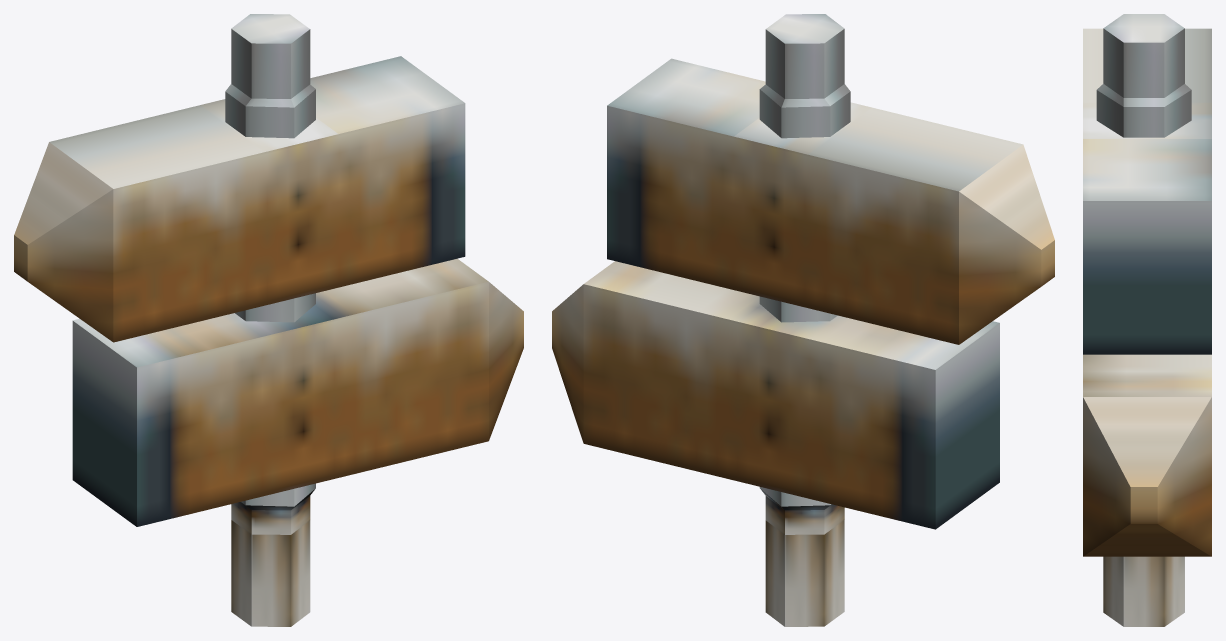
File: Poly_Direction_Board_04_Snow.obj
The picture shows the model from 3 angles, left to right: view 1: azimuth 30°, elevation 25°; view 2: azimuth 150°, elevation 25°; view 3: azimuth 270°, elevation 25°; orthographic projection.
Visible parts, largest first — view 1: Cylinder.003_Cylinder.007, Cylinder.002_Cylinder.006, Cylinder; view 2: Cylinder.003_Cylinder.007, Cylinder.002_Cylinder.006, Cylinder; view 3: Cylinder.003_Cylinder.007, Cylinder.002_Cylinder.006, Cylinder.
Part boxes in pixels (x1=…): Cylinder.003_Cylinder.007: x1=14, y1=56, x2=465, y2=342; Cylinder.002_Cylinder.006: x1=72, y1=258, x2=523, y2=526; Cylinder: x1=225, y1=14, x2=315, y2=626; Cylinder.003_Cylinder.007: x1=607, y1=58, x2=1054, y2=344; Cylinder.002_Cylinder.006: x1=552, y1=261, x2=999, y2=529; Cylinder: x1=759, y1=14, x2=850, y2=626; Cylinder.003_Cylinder.007: x1=1083, y1=28, x2=1211, y2=354; Cylinder.002_Cylinder.006: x1=1083, y1=354, x2=1211, y2=556; Cylinder: x1=1096, y1=14, x2=1191, y2=626.
Bounding box in the file's own units: 0.84 × 0.95 × 0.19.
1 material, 1 textured.
